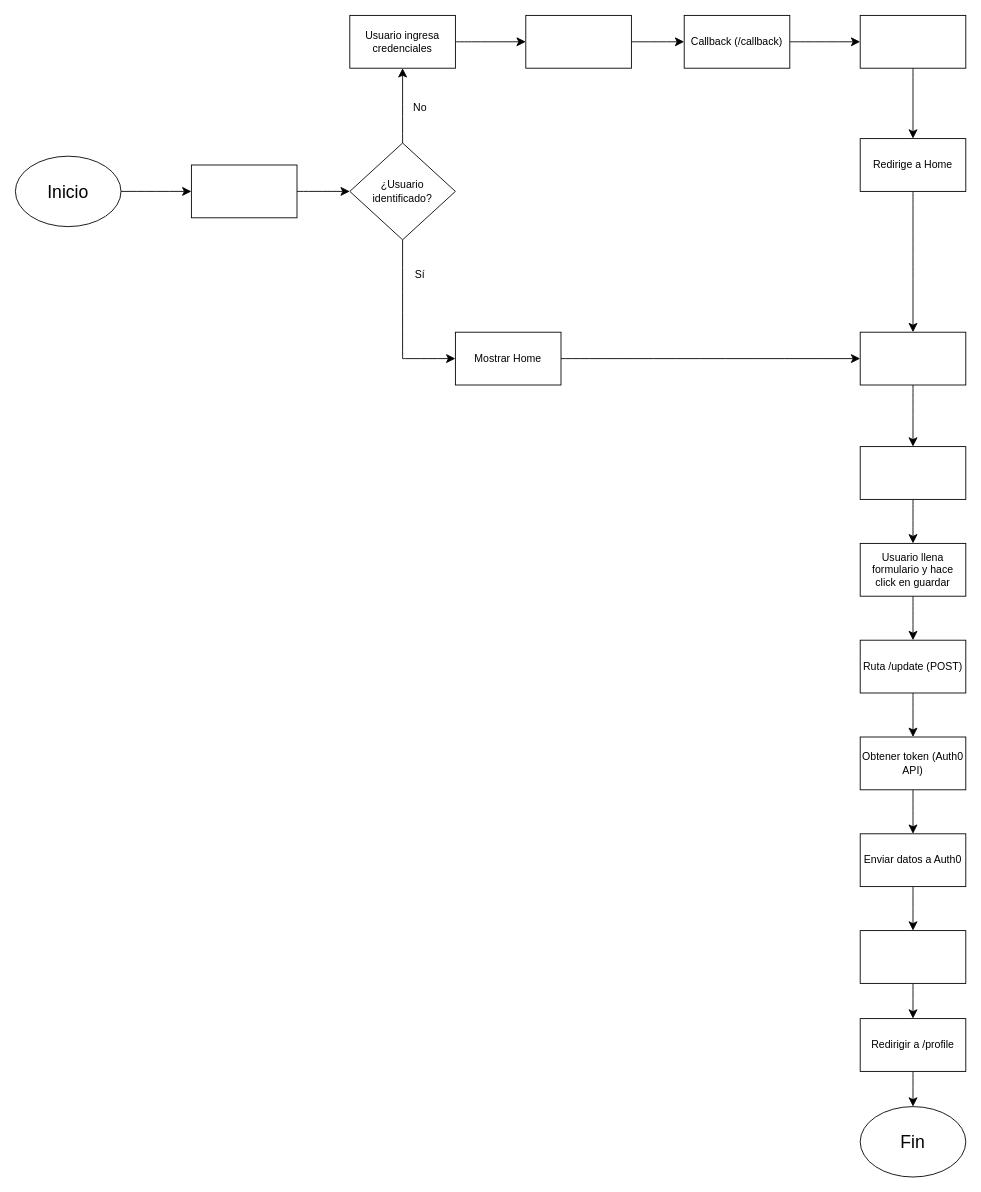
This 981x1192 diagram has some shape labels left out. Each missing label, with the box of its shape:
Auth0 valida usuario: (525, 15, 631, 68)
Click "Editar datos": (859, 331, 966, 385)
Guardar en user_metadata: (859, 930, 966, 983)
Se guarda sesiión: (859, 15, 966, 68)
Usuario entra a la aplicación: (191, 164, 297, 218)
Vista /profile: (859, 446, 966, 499)
